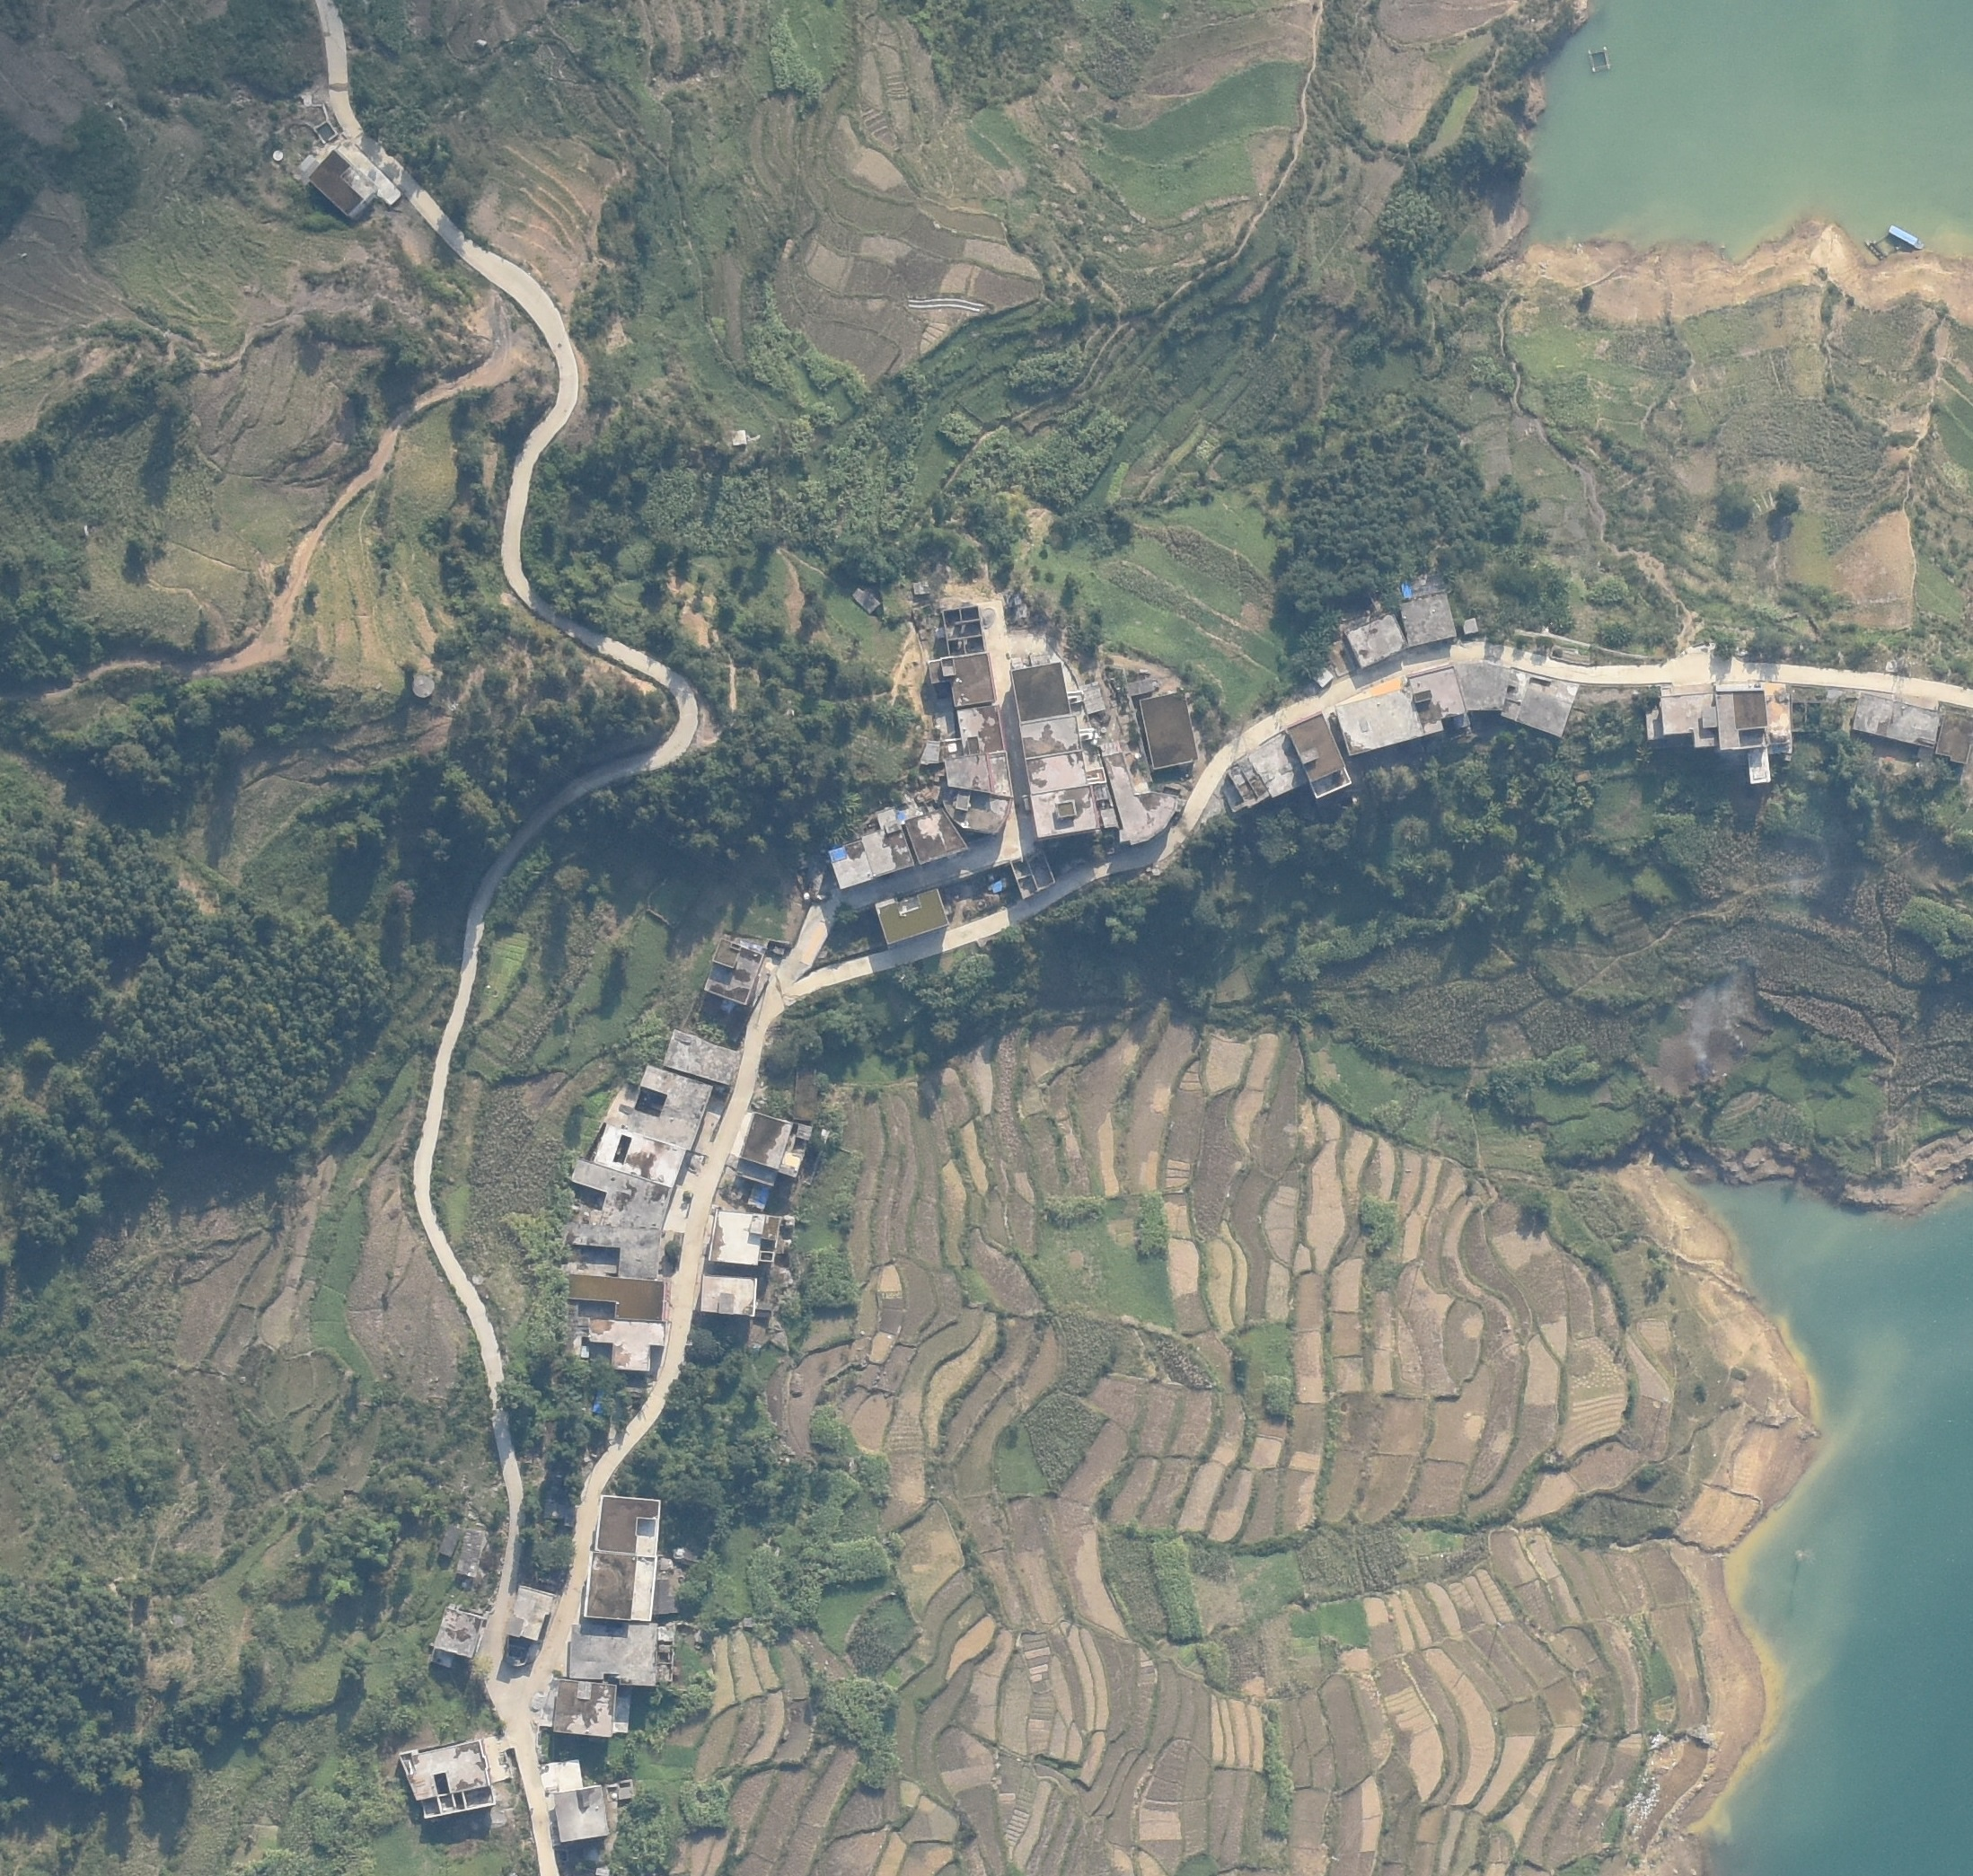building: (400, 1740, 504, 1820), (1096, 747, 1179, 846), (629, 1064, 712, 1148), (573, 1157, 669, 1226), (1335, 685, 1422, 756), (1714, 680, 1793, 750), (594, 1124, 685, 1184), (1288, 713, 1351, 798), (571, 1318, 666, 1372), (543, 1677, 629, 1737), (569, 1626, 657, 1684), (942, 757, 1011, 831), (1499, 669, 1577, 735), (1851, 692, 1938, 750), (740, 1113, 810, 1184), (308, 150, 379, 218), (567, 1226, 659, 1277), (703, 1208, 779, 1270), (1140, 694, 1200, 770), (661, 1029, 740, 1085), (703, 937, 766, 1006), (1408, 664, 1469, 735), (585, 1557, 652, 1621), (567, 1277, 664, 1319), (876, 890, 948, 946), (1249, 731, 1307, 796), (1011, 662, 1073, 722), (1659, 683, 1718, 747), (595, 1497, 661, 1554), (1344, 608, 1406, 666), (904, 809, 969, 863), (428, 1603, 483, 1668), (1032, 787, 1097, 838), (928, 655, 995, 705), (863, 809, 913, 875), (1399, 588, 1457, 645), (553, 1788, 611, 1843), (955, 705, 1008, 756), (1455, 659, 1506, 710), (1025, 752, 1089, 793), (509, 1585, 555, 1640), (701, 1274, 756, 1318), (1020, 715, 1078, 756), (941, 606, 988, 655), (826, 842, 876, 890), (1221, 764, 1268, 812), (1936, 705, 1973, 764), (1009, 849, 1053, 897), (539, 1760, 583, 1791), (456, 1527, 483, 1578), (793, 1066, 816, 1122), (1326, 639, 1355, 678), (851, 587, 881, 615), (1080, 682, 1105, 713), (655, 1578, 676, 1615), (437, 1527, 462, 1557), (1749, 752, 1770, 786), (921, 740, 942, 766), (1126, 678, 1154, 698), (1644, 708, 1661, 738), (1311, 666, 1332, 689), (729, 428, 749, 446), (1462, 617, 1480, 634), (909, 578, 928, 594), (756, 1304, 773, 1319)
cultivation-mesh-cage: (1587, 48, 1610, 70)
prefabricated-house: (749, 1184, 770, 1212)
ship: (1888, 224, 1925, 250)
vehicle: (1022, 793, 1034, 812)
well: (410, 673, 435, 699), (470, 1272, 483, 1284), (271, 150, 284, 160), (303, 97, 314, 106)
